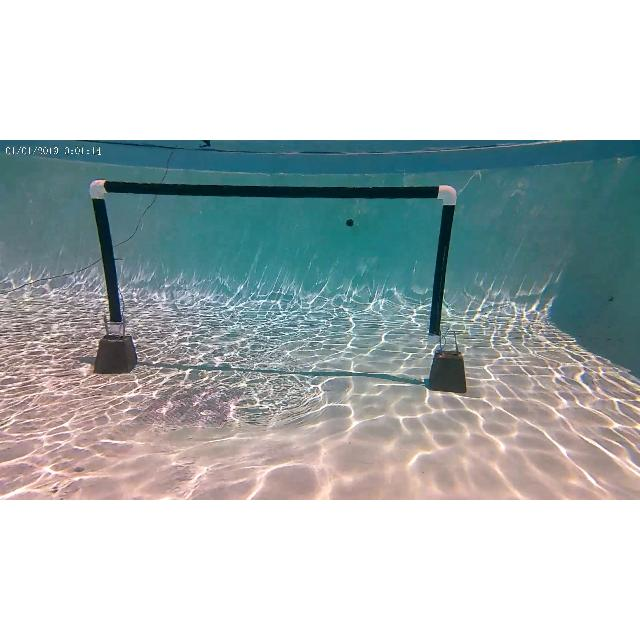prequal gate: (90, 180, 458, 344)
prequal gate leg l: (86, 175, 126, 327)
prequal gate leg r: (426, 178, 454, 346)
